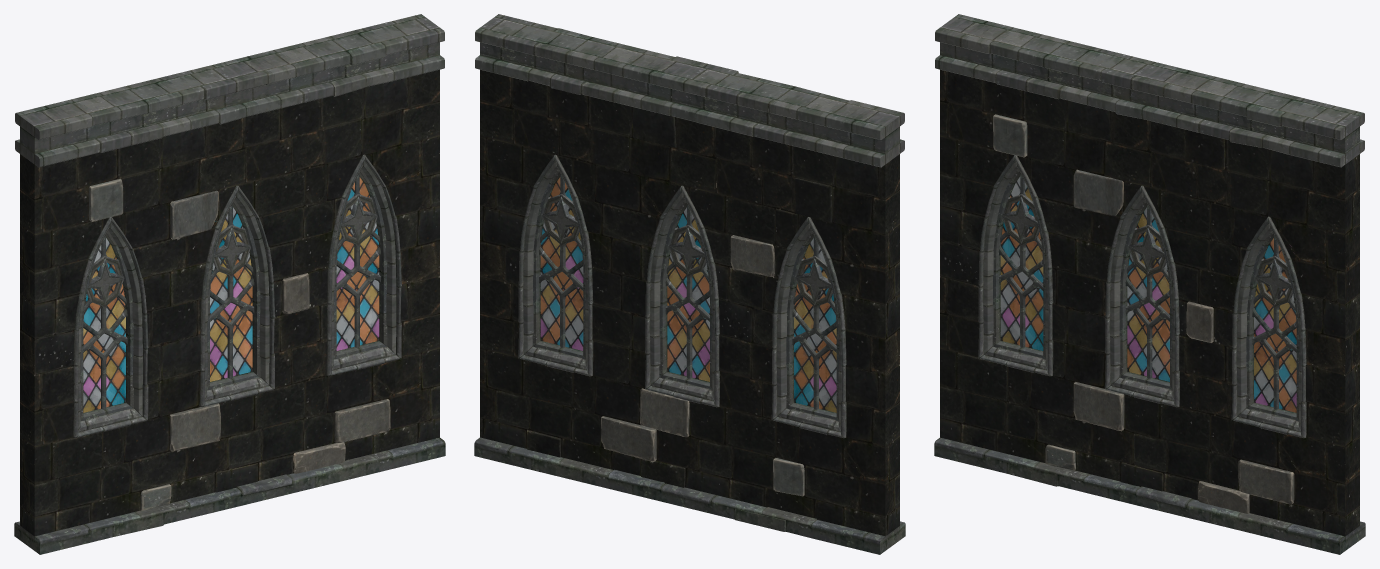
The picture shows the model from 3 angles, left to right: view 1: azimuth 30°, elevation 25°; view 2: azimuth 150°, elevation 25°; view 3: azimuth 330°, elevation 25°; orthographic projection.
Visible parts, largest first — view 1: SM_SaradominTemple_Window_8x8_02_v1_LOD0; view 2: SM_SaradominTemple_Window_8x8_02_v1_LOD0; view 3: SM_SaradominTemple_Window_8x8_02_v1_LOD0.
Boxes of the visible parts, x1,y1,x2,y2 form: SM_SaradominTemple_Window_8x8_02_v1_LOD0: (14, 14, 445, 554); SM_SaradominTemple_Window_8x8_02_v1_LOD0: (474, 14, 905, 554); SM_SaradominTemple_Window_8x8_02_v1_LOD0: (934, 14, 1365, 554).
Bounding box in the file's own units: 8 × 8.02 × 0.9218.
Materials: 4 (4 with a texture image).
